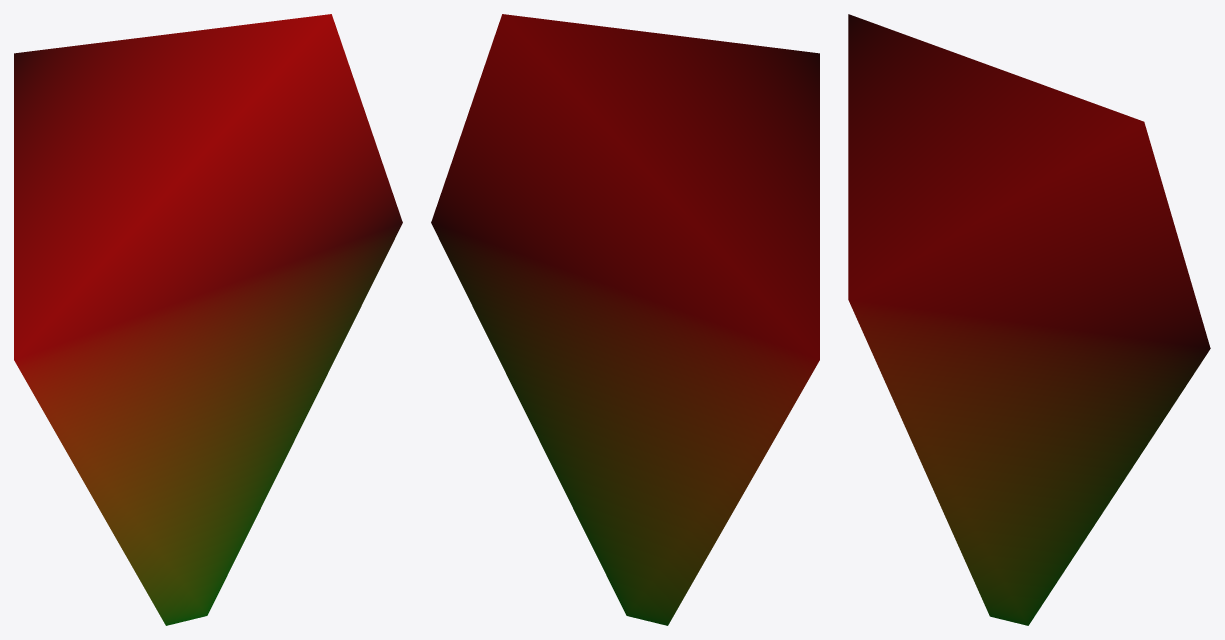
The model's file is Var4_LOD3.fbx.
The picture shows the model from 3 angles, left to right: view 1: azimuth 30°, elevation 25°; view 2: azimuth 150°, elevation 25°; view 3: azimuth 330°, elevation 25°; orthographic projection. The views are drawn at different scales.
Parts seen in each view (by area): view 1: _d7c0_Var4_LOD3; view 2: _d7c0_Var4_LOD3; view 3: _d7c0_Var4_LOD3.
Part boxes in pixels (x1=…): _d7c0_Var4_LOD3: x1=14, y1=14, x2=402, y2=625; _d7c0_Var4_LOD3: x1=431, y1=14, x2=819, y2=625; _d7c0_Var4_LOD3: x1=848, y1=14, x2=1210, y2=625.
Size of the model in its own units: 38.14 by 57.13 by 2.47e-05.
